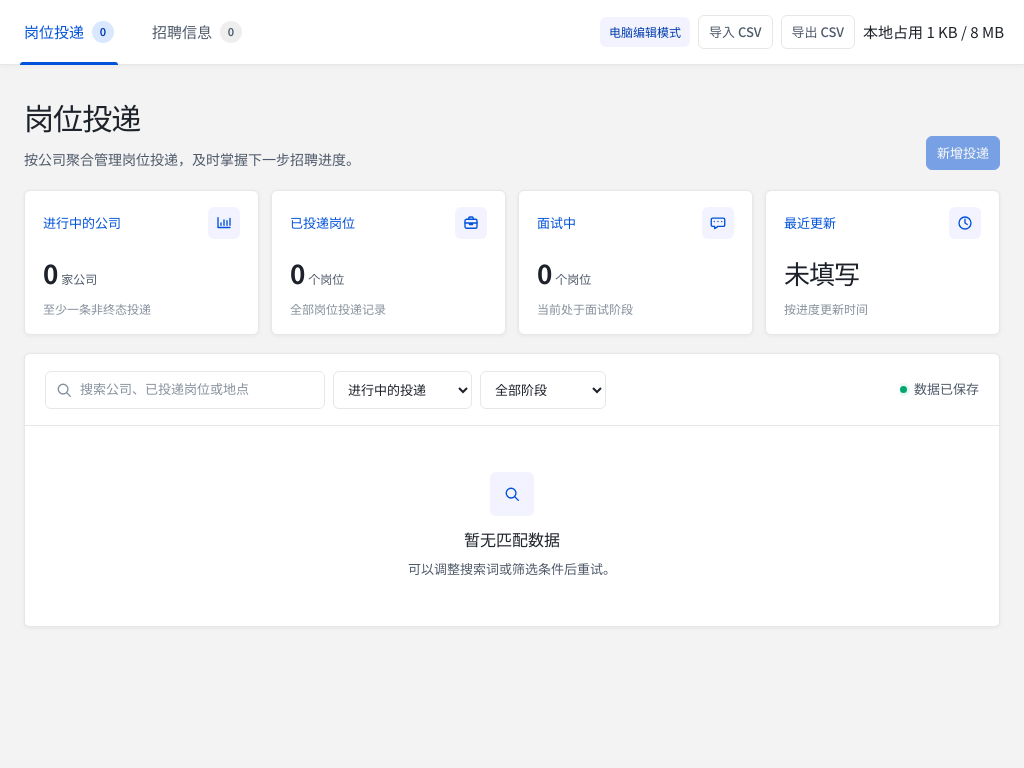
Test: editable extension dashboard › shows a repository error and does not close the form on failed save
The width and height of the screenshot is (1024, 768).
Expected: the text "电脑编辑模式" is shown, x1=600 y1=17 x2=690 y2=47
Expected: the text "本地占用 1 KB / 8 MB" is shown, x1=863 y1=20 x2=1004 y2=44
Click the tab "招聘信息 0" at (197, 32), box x1=148 y1=0 x2=246 y2=64
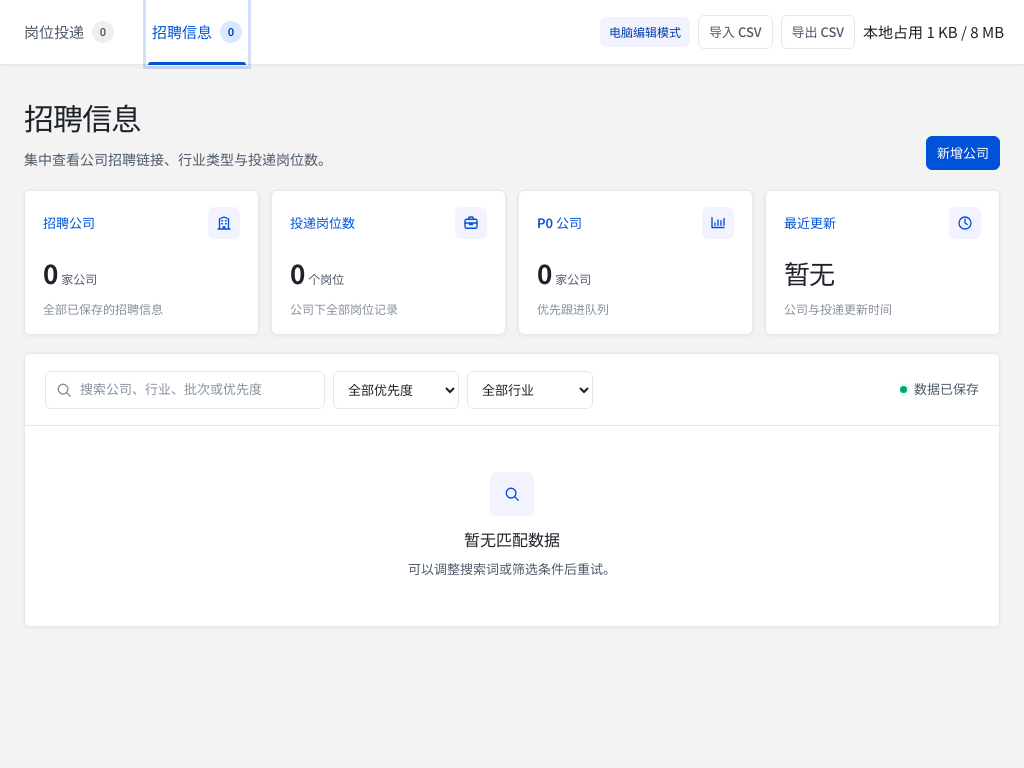
Click the button "新增公司" at (963, 153), box x1=926 y1=136 x2=1000 y2=170
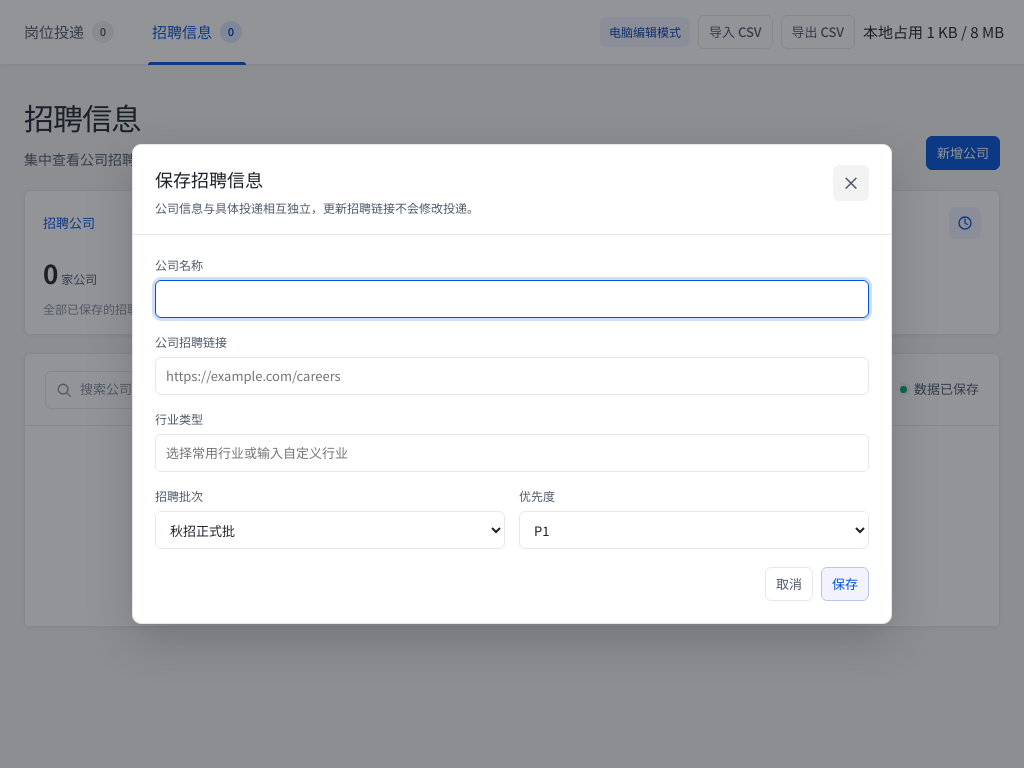
Type "失败公司" into the field labelled "公司名称" at (512, 299), box x1=155 y1=280 x2=869 y2=318
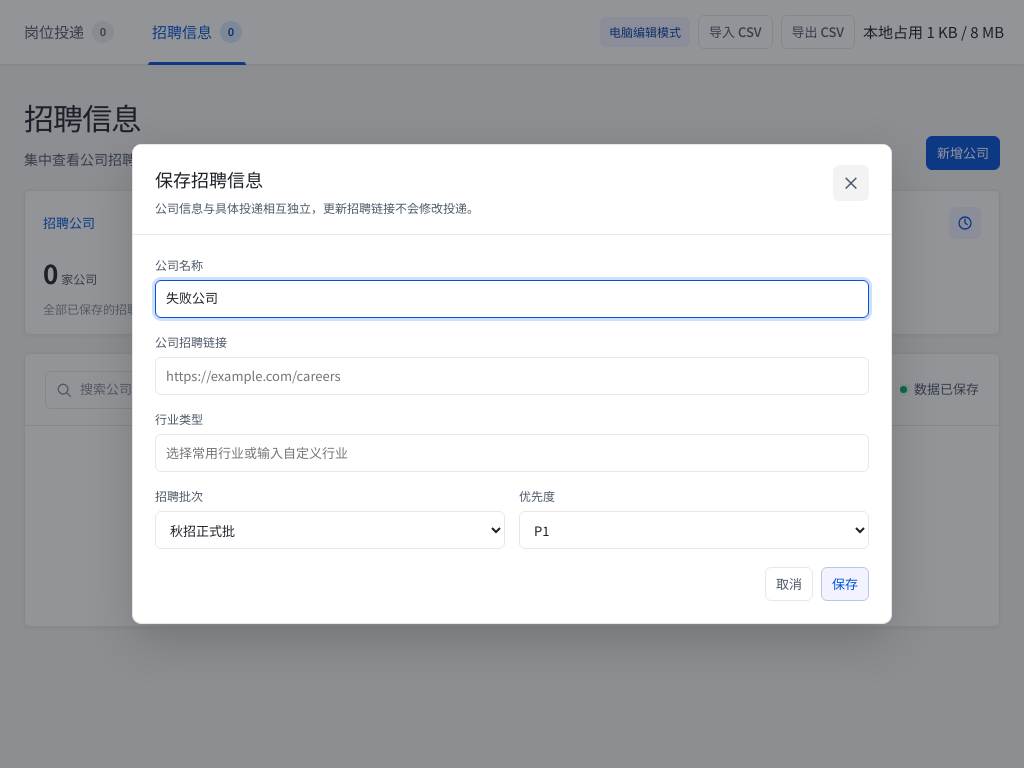
Click the button "保存" at (845, 584), box x1=821 y1=567 x2=869 y2=601
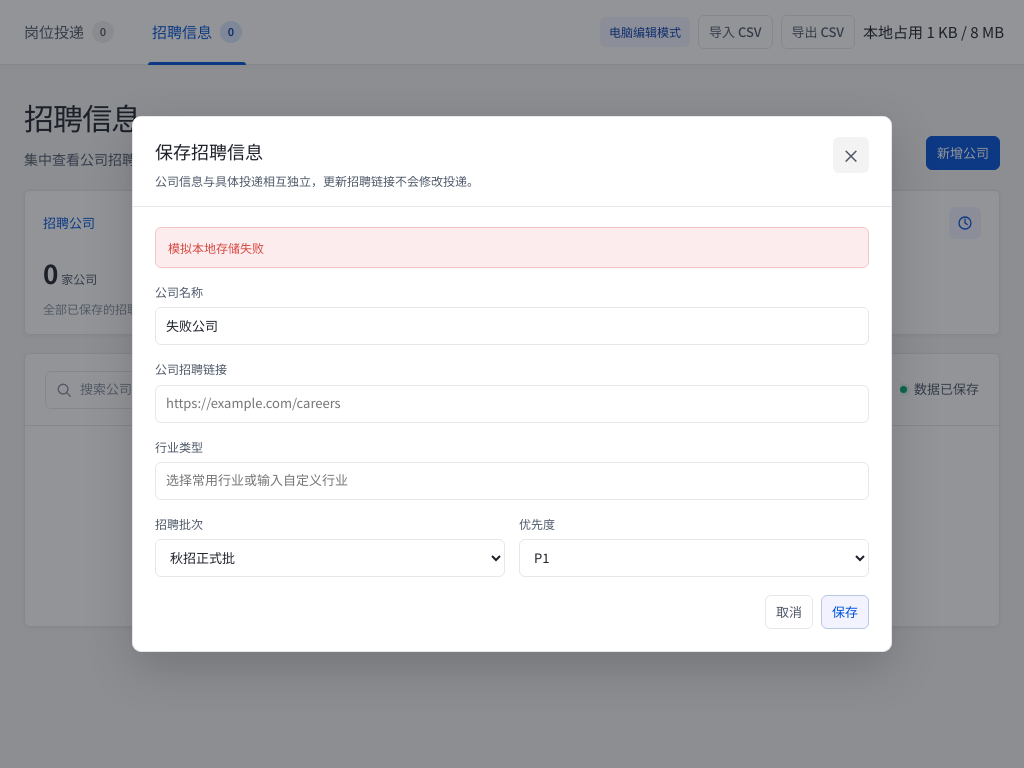
Now the dialog is shown, box x1=132 y1=116 x2=892 y2=652
Now the message reads "模拟本地存储失败", box x1=168 y1=239 x2=264 y2=256
